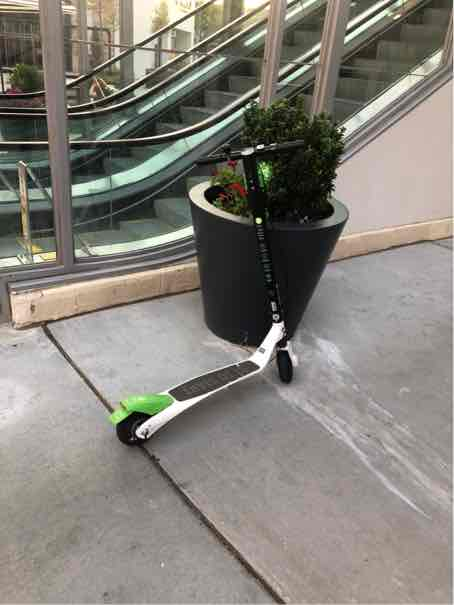scooter: (104, 124, 329, 460)
